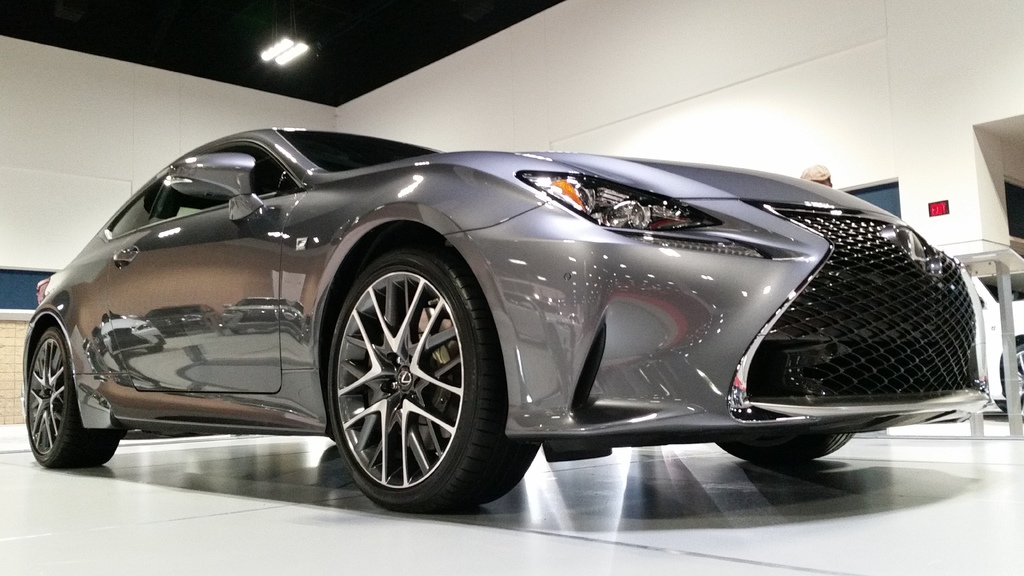Car: (17, 119, 987, 508), (995, 335, 1020, 411)
